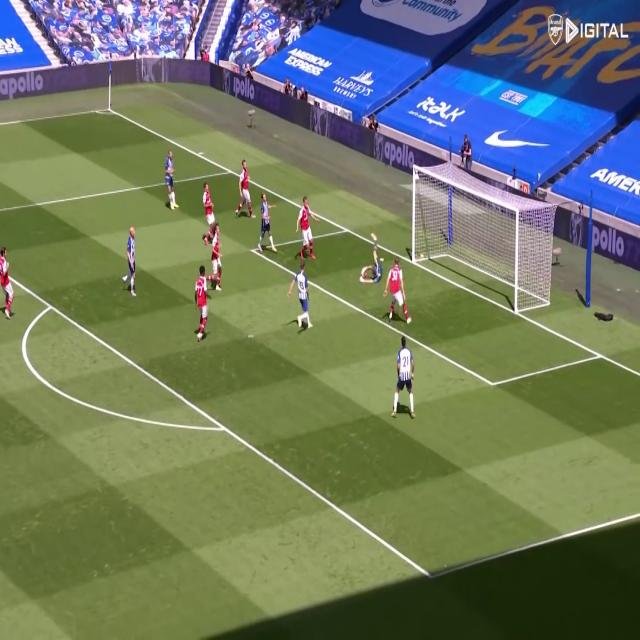Ball: (360, 269, 367, 279)
GoalKeeper: (356, 223, 385, 283)
TEAM 1: (385, 258, 412, 322), (194, 268, 211, 342), (297, 198, 316, 261), (208, 222, 225, 290), (200, 182, 218, 246), (1, 248, 16, 320), (237, 161, 253, 219)
TEAM 2: (393, 341, 417, 421), (288, 264, 312, 332), (256, 193, 276, 255), (125, 228, 137, 296), (165, 152, 178, 211)
